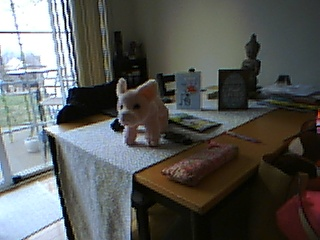piggy: (114, 76, 170, 147)
